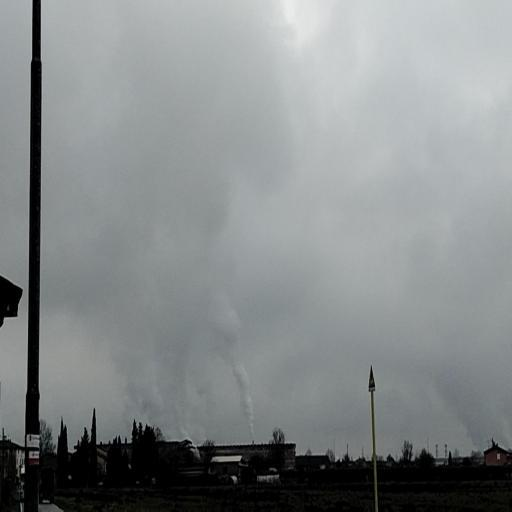leakage: (58, 235, 259, 462)
